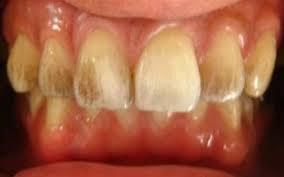Calculus: (71, 19, 135, 112), (199, 29, 249, 105), (35, 32, 81, 102), (243, 29, 281, 103), (6, 34, 46, 96)
